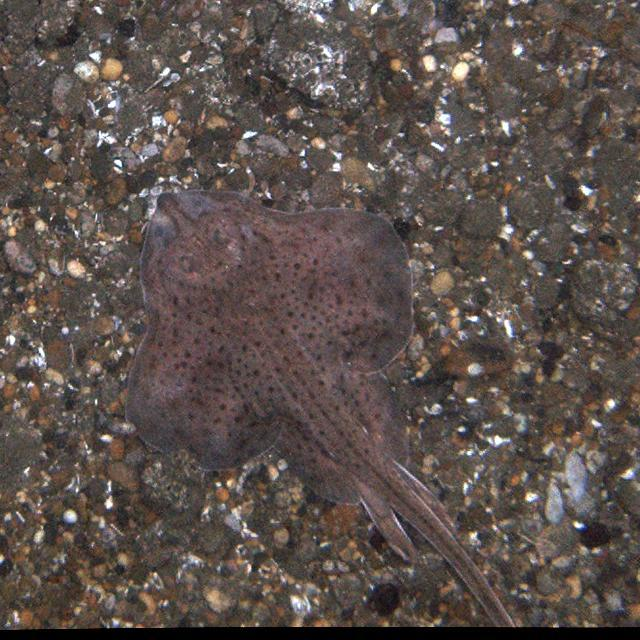skate: (116, 186, 536, 624)
